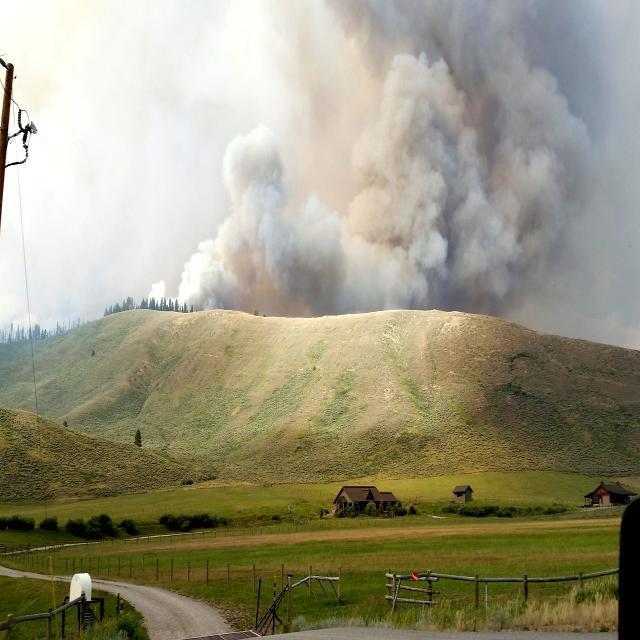Smoke: (140, 0, 640, 321)
